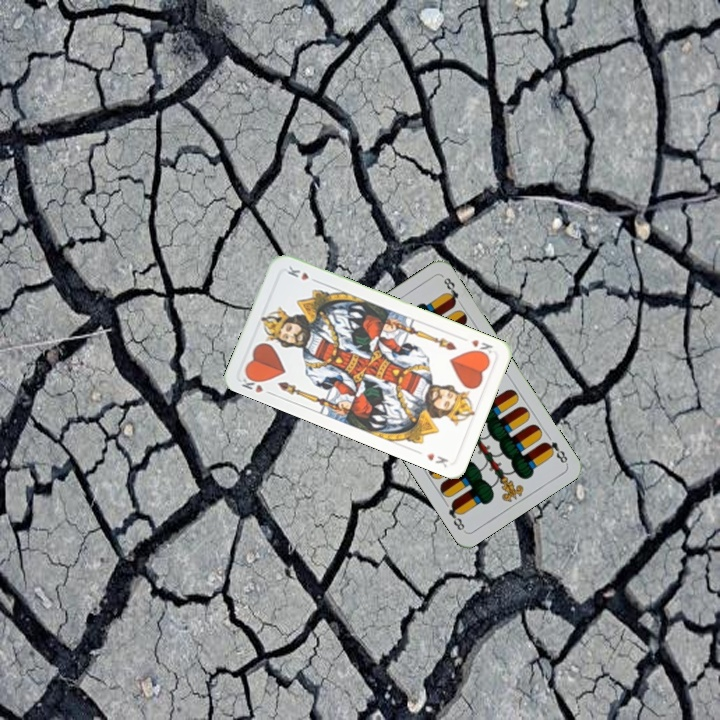E8: (540, 437, 570, 466)
HK: (237, 370, 276, 398), (467, 335, 495, 359)
